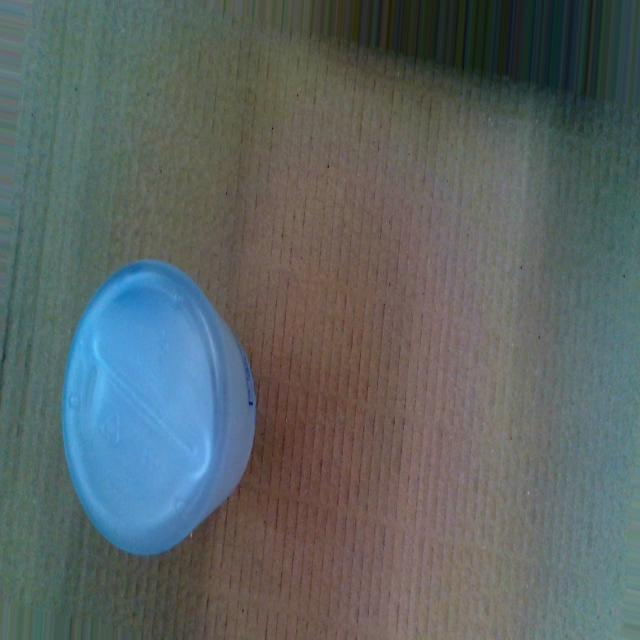bottle: (58, 254, 257, 562)
